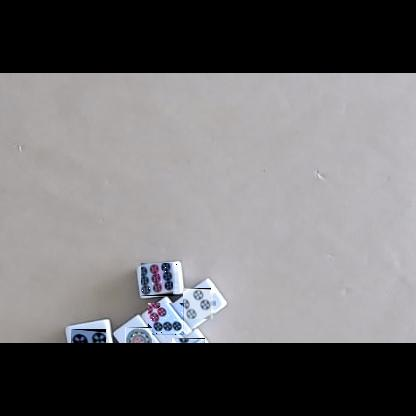1p: (125, 327, 152, 343)
2p: (71, 329, 106, 343)
4p: (184, 288, 216, 319)
5p: (171, 338, 205, 343)
7p: (149, 304, 187, 338)
9p: (142, 263, 178, 296)
